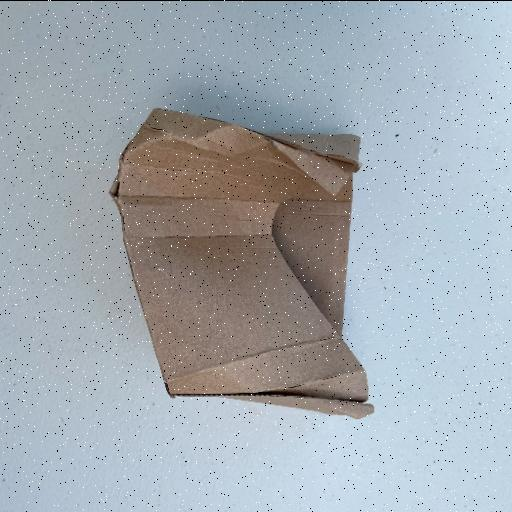Cardboard: (108, 106, 374, 420)
